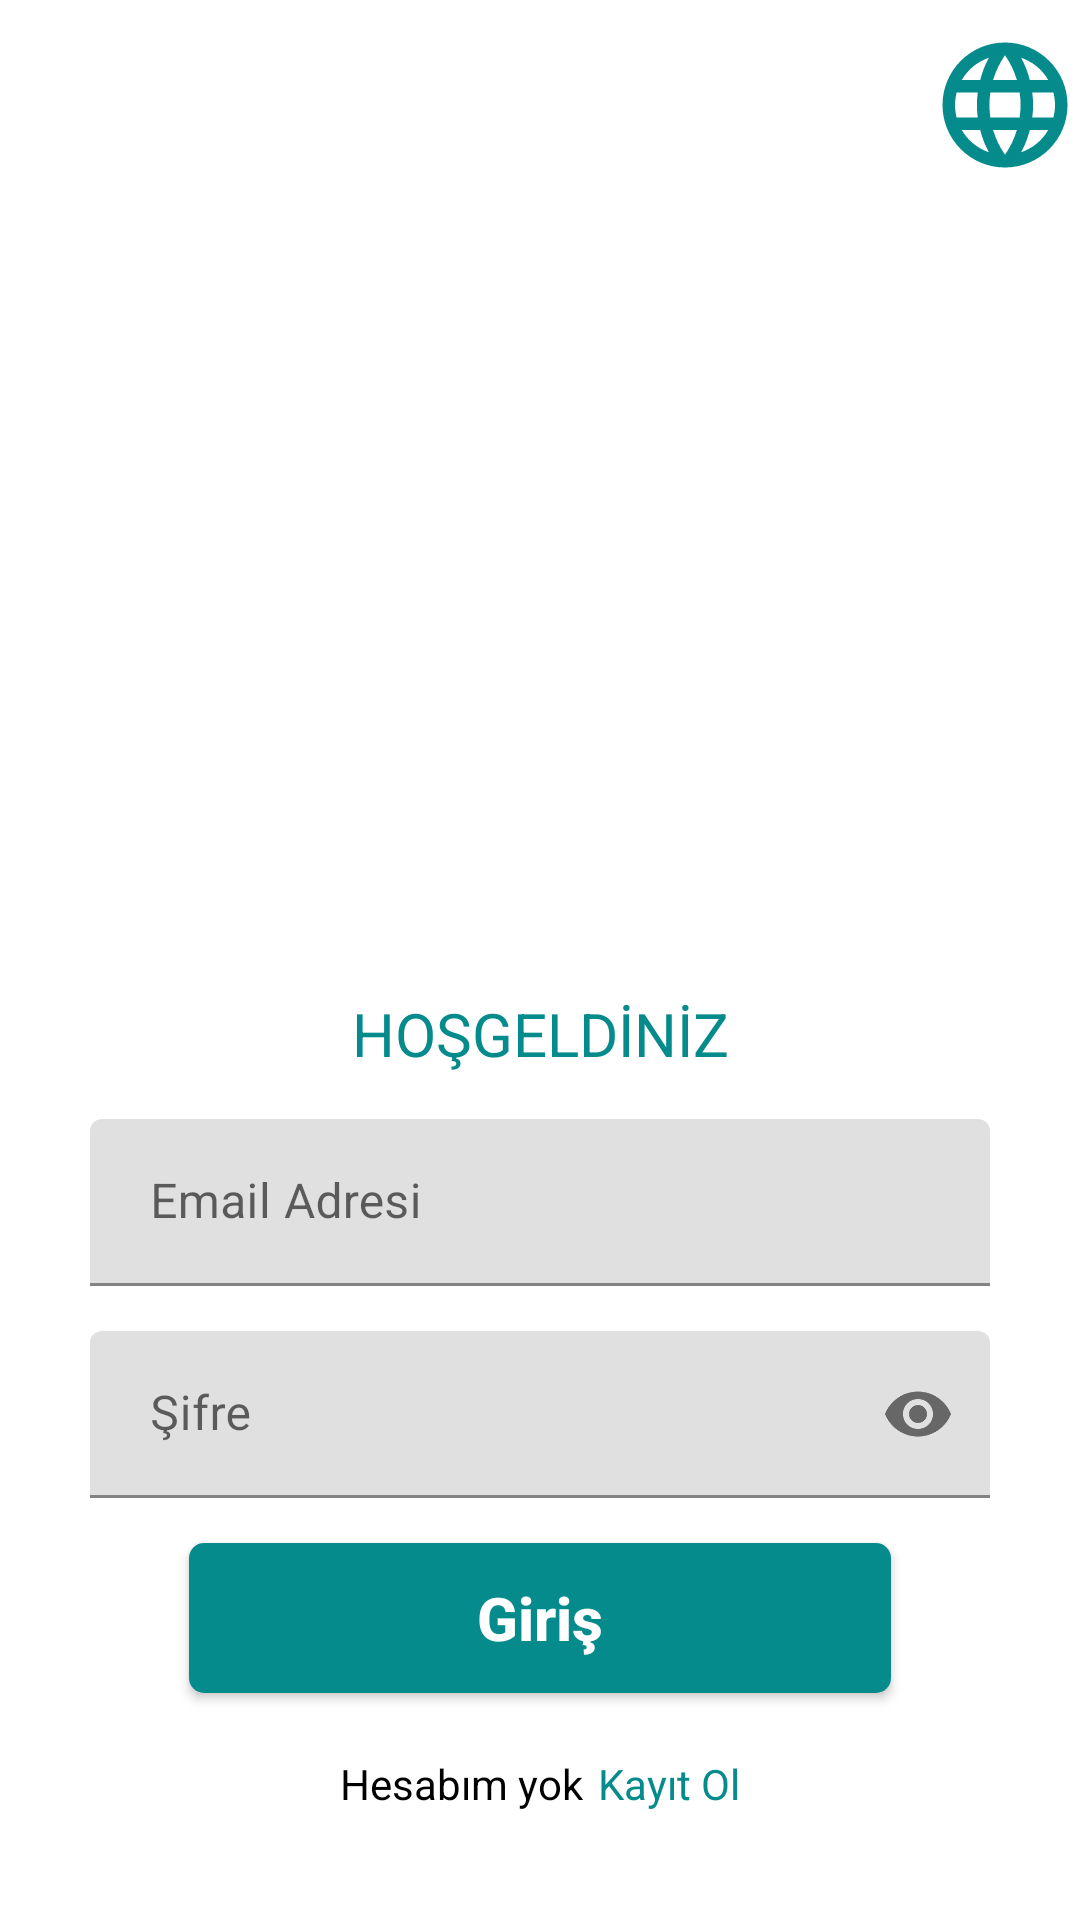

Icon bounding boxes for this 1080×1920 phone screenshot, format BBox(x1, y1, x2, y2):
language: BBox(942, 42, 1068, 168)
